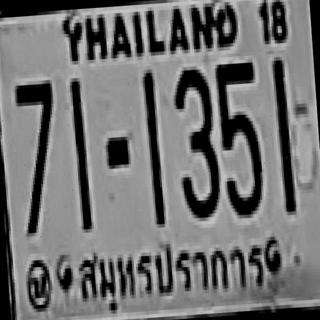N01: (271, 58, 295, 214), (141, 71, 164, 226), (70, 79, 93, 231)
N03: (172, 67, 219, 217)
N05: (214, 59, 264, 216)
N07: (13, 80, 61, 233)
P57: (73, 230, 268, 306)
